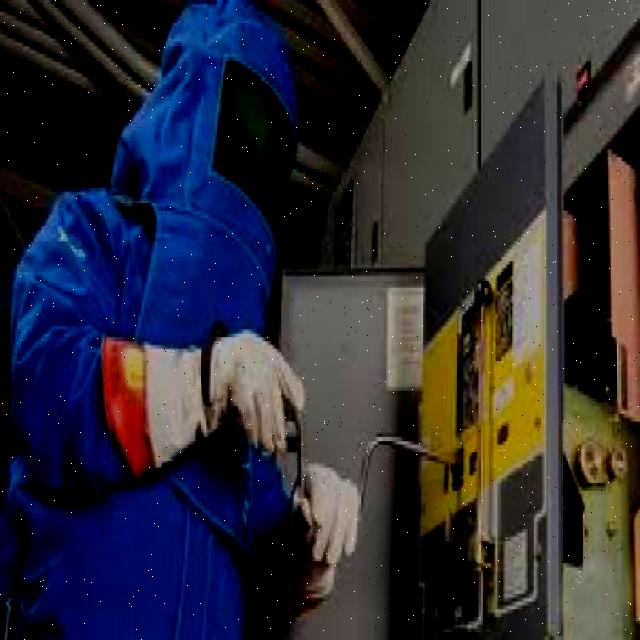Gloves: (144, 329, 302, 480), (293, 454, 361, 602)
